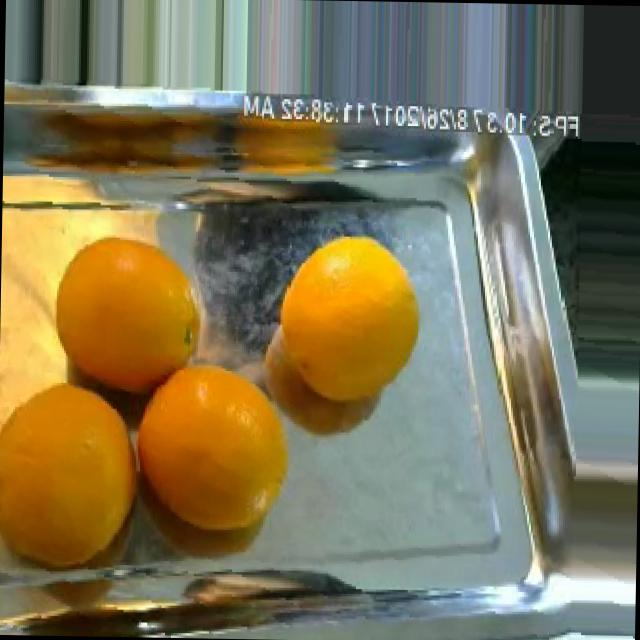Fruit: (248, 212, 432, 431), (220, 102, 350, 176)
